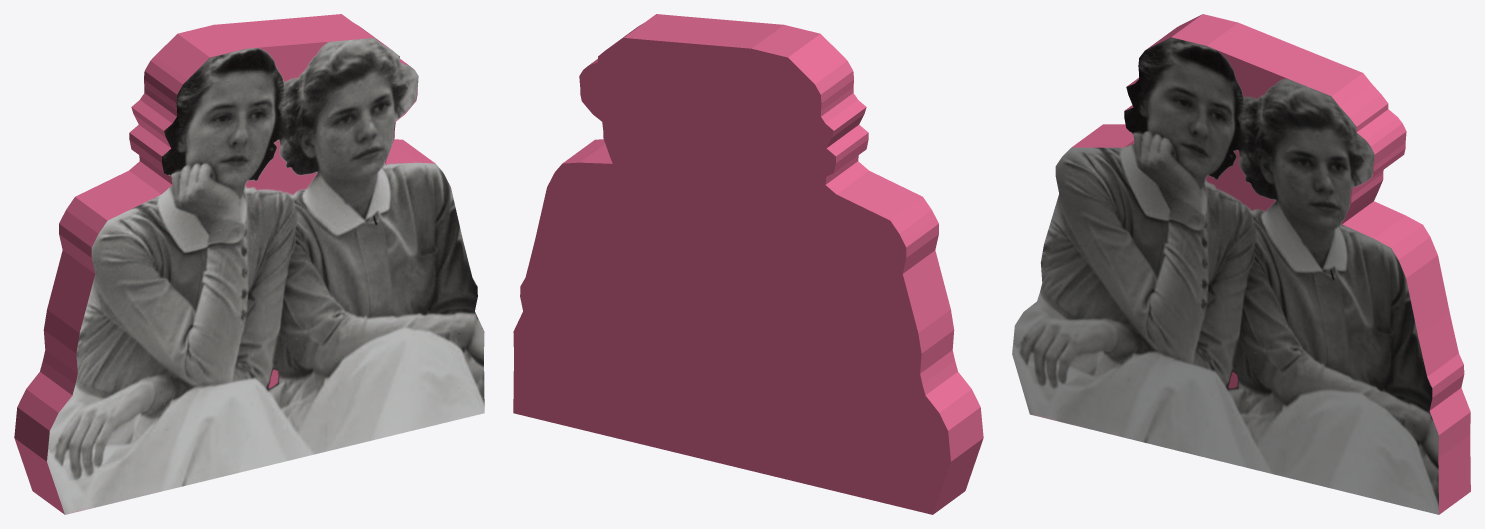
Rendered from women-sub.glb.
The picture shows the model from 3 angles, left to right: view 1: azimuth 30°, elevation 25°; view 2: azimuth 150°, elevation 25°; view 3: azimuth 330°, elevation 25°; orthographic projection. The views are drawn at different scales.
Parts seen in each view (by area): view 1: base.001; view 2: base.001; view 3: base.001.
Boxes of the visible parts, box(x1,y1,x2,y2) form: base.001: box(14, 14, 484, 514); base.001: box(513, 14, 983, 514); base.001: box(1012, 14, 1470, 514).
Bounding box in the file's own units: 0.2218 × 0.2047 × 0.0286.
Materials: 2 (1 with a texture image).
